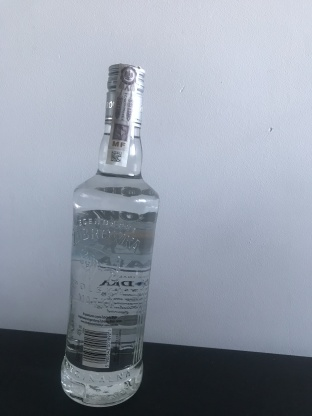nakretka: (103, 59, 147, 131)
